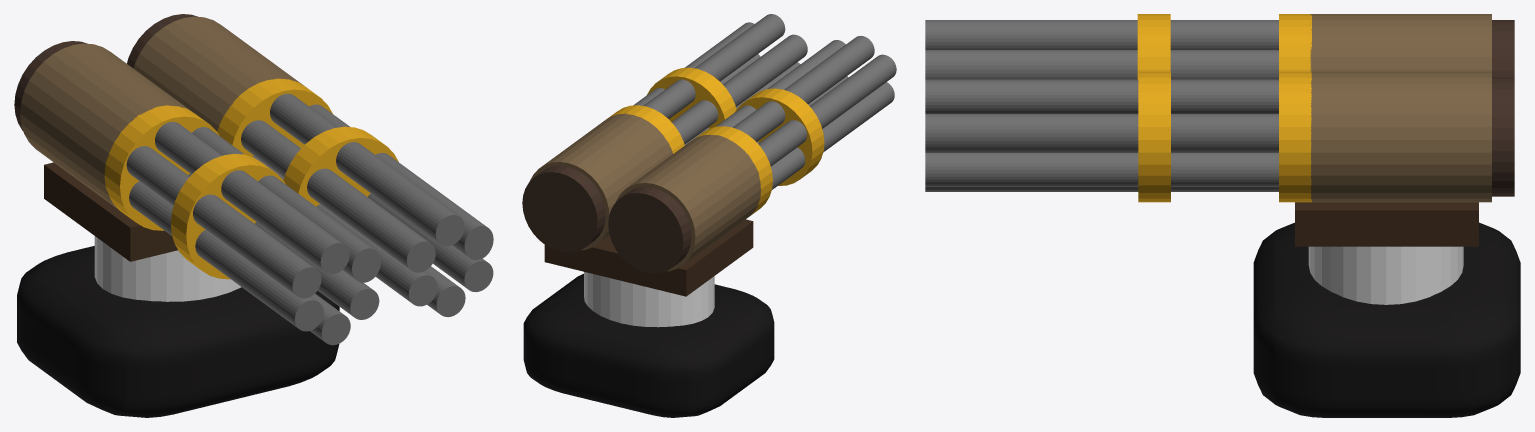
Rendered from TurretMain.fbx.
The picture shows the model from 3 angles, left to right: view 1: azimuth 30°, elevation 25°; view 2: azimuth 150°, elevation 25°; view 3: azimuth 270°, elevation 25°; orthographic projection. The views are drawn at different scales.
Parts seen in each view (by area): view 1: Top Half, BottomHalf; view 2: Top Half, BottomHalf; view 3: Top Half, BottomHalf.
Boxes of the visible parts, box(x1,y1,x2,y2) form: Top Half: box(14, 14, 493, 345); BottomHalf: box(17, 236, 339, 417); Top Half: box(522, 14, 896, 296); BottomHalf: box(523, 272, 774, 417); Top Half: box(925, 14, 1514, 246); BottomHalf: box(1253, 222, 1520, 417).
Bounding box in the file's own units: 155 × 179 × 300.
